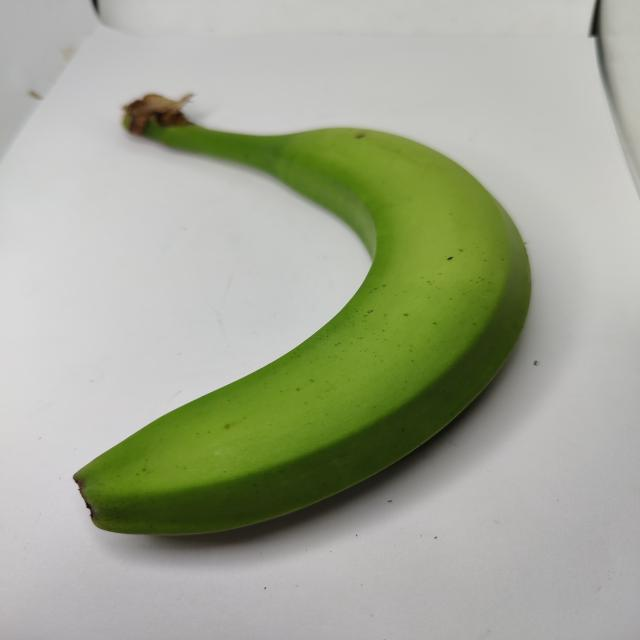raw: (40, 60, 554, 558)
